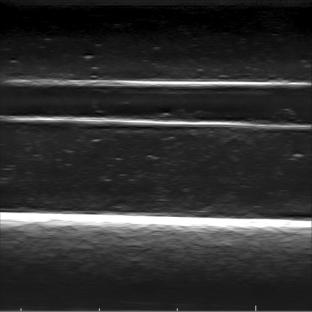vessel: (3, 78, 309, 128)
